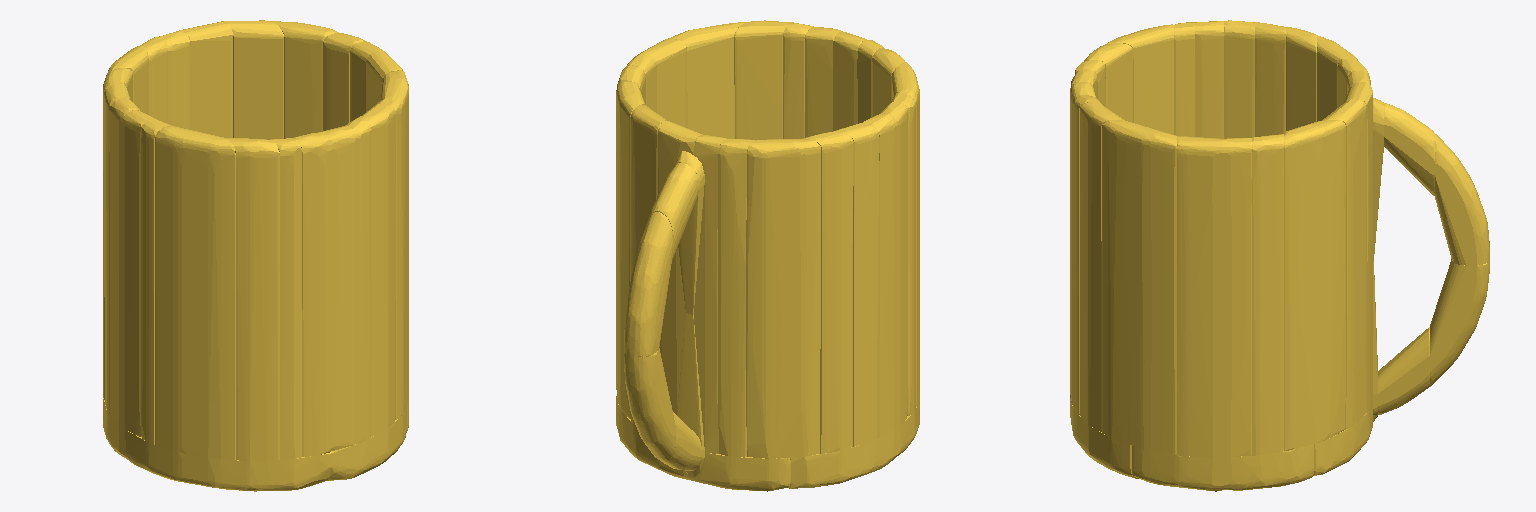
robot.urdf — 428.urdf:
<?xml version="1.0" ?>
<robot name="428.urdf">
	<link name="baseLink">
		<inertial>
			<origin rpy="0 0 0" xyz="0 0 0"/>
				<mass value="0.1"/>
				<inertia ixx="6e-5" ixy="0" ixz="0" iyy="6e-5" iyz="0" izz="6e-5"/>
		</inertial>
		<visual>
			<origin rpy="0 0 0" xyz="0 0 0"/>
			<geometry>
				<mesh filename="4_decom_wt.obj" scale="1.01 1.01 0.99"/>
			</geometry>
			<material name="yellow">
				<color rgba="0.98 0.84 0.35 1"/>
			</material>
		</visual>
		<collision>
			<origin rpy="0 0 0" xyz="0 0 0"/>
			<geometry>
				<mesh filename="4_decom_wt.obj" scale="1.01 1.01 0.99"/>
			</geometry>
		</collision>
	</link>
</robot>

--- What the picture shows (computed from the rendered views, not written in the file) ---
The picture shows the robot from 3 angles, left to right: view 1: azimuth 30°, elevation 25°; view 2: azimuth 150°, elevation 25°; view 3: azimuth 270°, elevation 25°; orthographic projection.
Robot: 428.urdf — 1 links, 0 joints (none); root link baseLink; default pose: all joints at 0.
Links seen in each view (by area): view 1: baseLink; view 2: baseLink; view 3: baseLink.
Link boxes in pixels (x1,y1,x2,y2): baseLink: [103, 20, 408, 491]; baseLink: [616, 20, 919, 491]; baseLink: [1070, 20, 1489, 491].
Size in the robot's own frame: 0.0846 by 0.1173 by 0.1076 metres.
1 mesh visuals loaded from 1 distinct referenced files (1 OBJ).